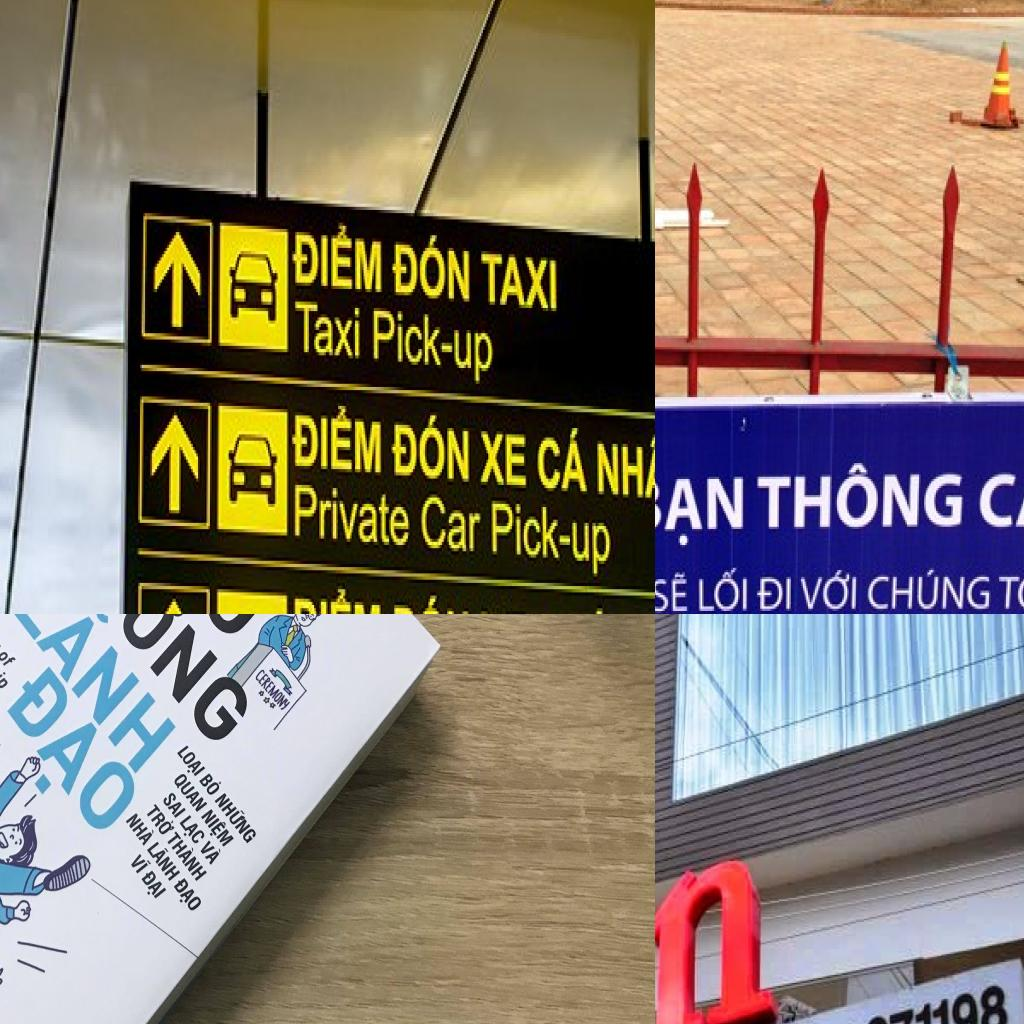text: (655, 753, 783, 1024), (52, 614, 267, 749), (11, 614, 186, 775), (0, 661, 145, 853), (752, 461, 970, 538), (761, 981, 1010, 1024), (288, 482, 415, 554), (290, 213, 386, 302), (389, 403, 473, 491), (288, 400, 384, 476), (655, 474, 746, 554), (866, 563, 994, 613), (388, 229, 474, 302), (480, 248, 560, 317), (369, 302, 442, 374), (290, 295, 365, 365), (592, 428, 655, 507), (488, 498, 562, 564), (418, 491, 487, 558), (536, 422, 590, 498), (977, 452, 1024, 536), (164, 614, 283, 644), (476, 431, 529, 491), (799, 565, 862, 614), (452, 327, 497, 390), (695, 565, 751, 614), (570, 523, 613, 583), (290, 586, 382, 614), (213, 789, 259, 845), (389, 585, 472, 614), (165, 830, 211, 882), (197, 808, 237, 852), (254, 666, 292, 712), (753, 574, 794, 614), (655, 570, 692, 614), (171, 772, 209, 814), (146, 839, 182, 882), (170, 876, 204, 916), (997, 565, 1024, 614), (145, 800, 179, 838), (124, 808, 156, 848), (173, 745, 207, 779), (0, 614, 14, 693), (176, 814, 208, 848), (137, 868, 167, 904), (161, 789, 187, 821), (198, 769, 224, 799), (200, 837, 224, 867), (129, 849, 153, 877), (0, 646, 17, 670)
